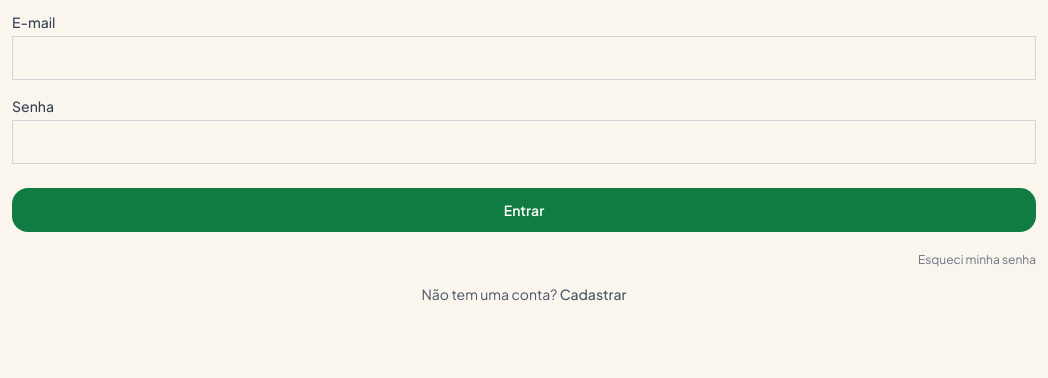
LoginForm › should show unverified email message and resend link when login returns EMAIL_NOT_VERIFIED
The image size is (1048, 378).
Type "joao@example.com" into the field labelled "E-mail" at (524, 58), box [12,36,1036,80]
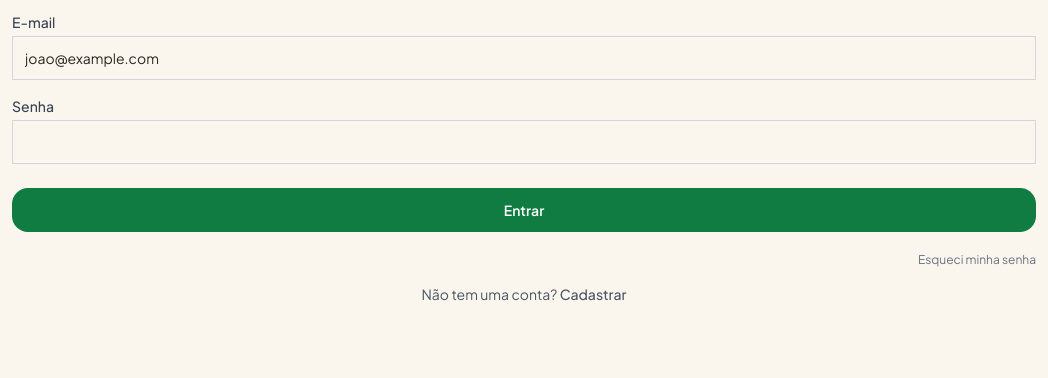
Type "minhasenha123" into the password field labelled "Senha" at (524, 142), box [12,120,1036,164]
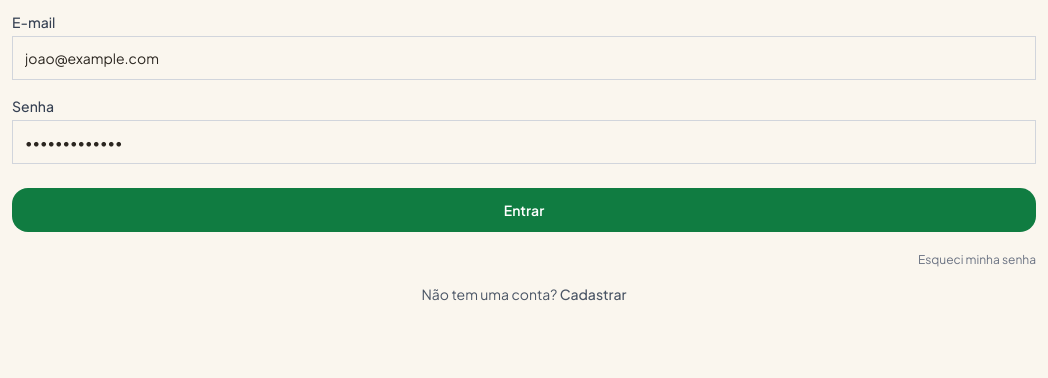
Click the button "Entrar" at (524, 210), box [12,188,1036,232]
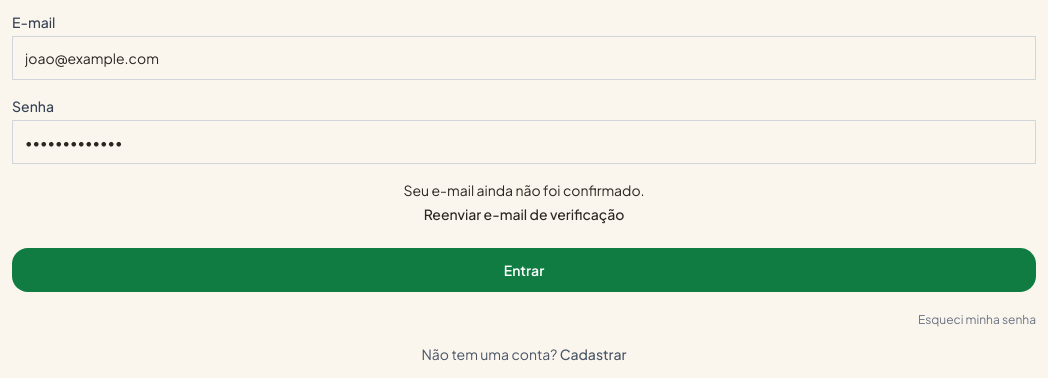
Expected: the text "Seu e-mail ainda não foi confirmado." is shown, [403,181,645,199]
